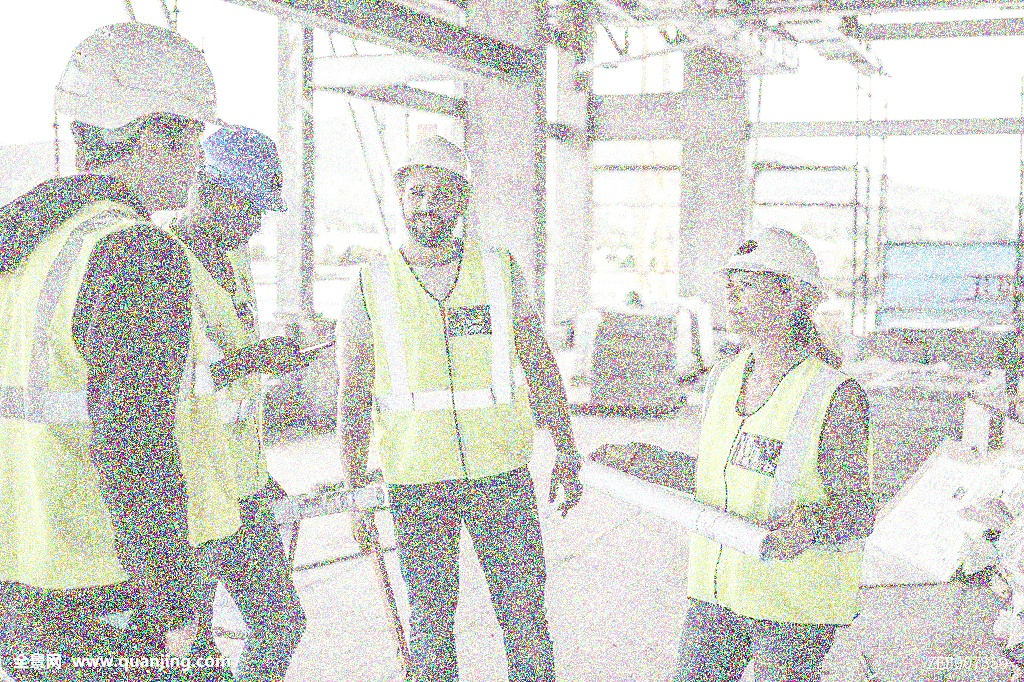helmet: (50, 15, 229, 226), (184, 117, 299, 253), (710, 221, 826, 343), (384, 133, 479, 249)
vest: (0, 176, 213, 598), (332, 239, 558, 490), (682, 350, 878, 632), (151, 227, 292, 509)
